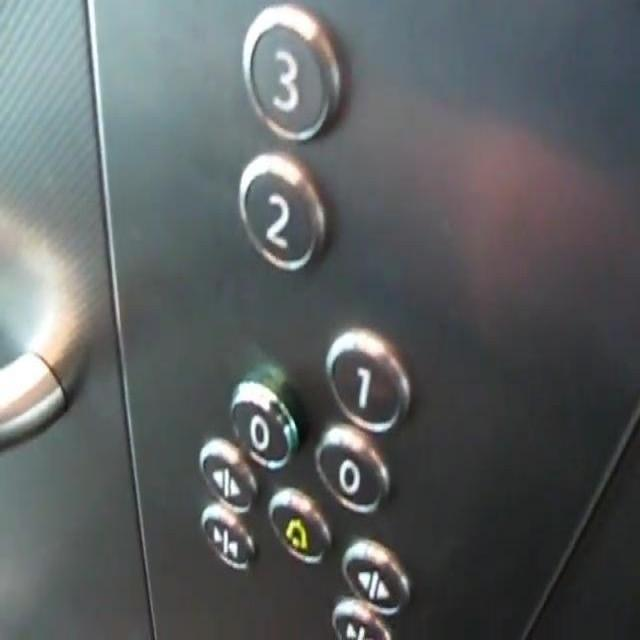0: (226, 373, 302, 475), (312, 422, 395, 514)
1: (321, 326, 412, 438)
2: (234, 151, 329, 276)
3: (237, 0, 344, 145)
alarm: (264, 485, 337, 571)
close: (198, 498, 258, 578)
open: (338, 533, 411, 619), (195, 431, 260, 513)
